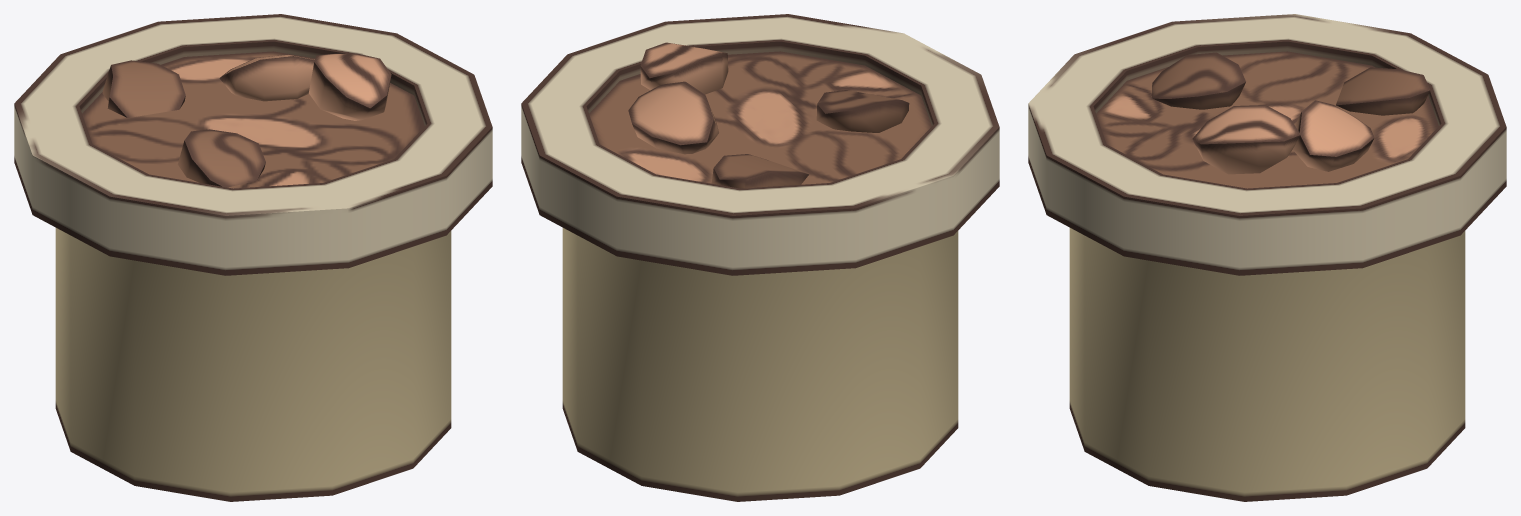
Rendered from Coffee Packet.fbx.
The picture shows the model from 3 angles, left to right: view 1: azimuth 30°, elevation 25°; view 2: azimuth 150°, elevation 25°; view 3: azimuth 270°, elevation 25°; orthographic projection.
Parts seen in each view (by area): view 1: Coffee_Packet1; view 2: Coffee_Packet1; view 3: Coffee_Packet1.
Part boxes in pixels (x1,y1,x2,y2): Coffee_Packet1: (14,14,492,501); Coffee_Packet1: (521,14,999,501); Coffee_Packet1: (1028,14,1506,501).
Size of the model in its own units: 0.3495 by 0.2764 by 0.3495.
1 material, 1 textured.
